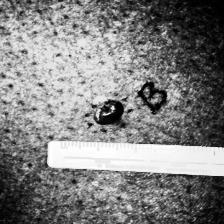Benign Marking or Mole: (95, 99, 125, 128)
